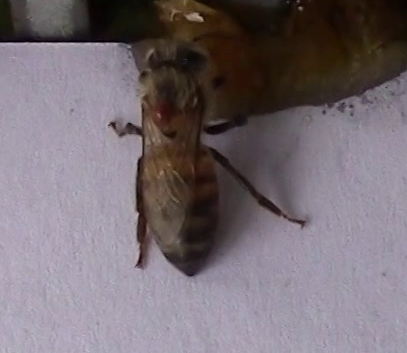Varroa destructor: (154, 97, 177, 128)
